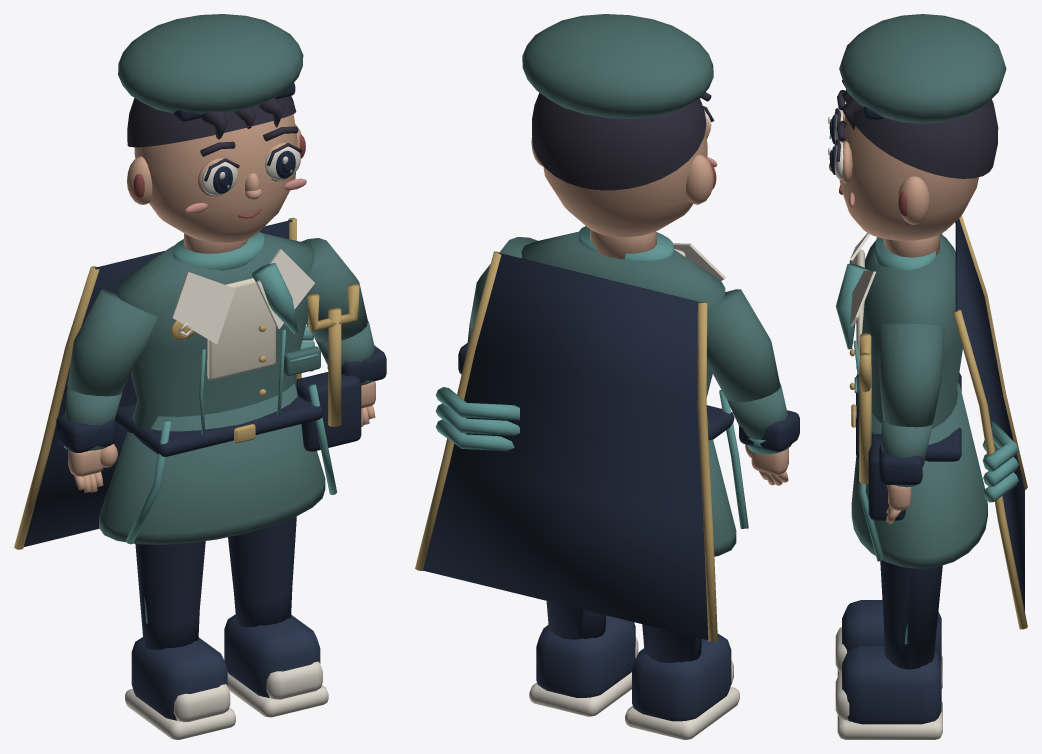
Rendered from npc_hexruins_lieutenant_1.glb.
3 views of the same model, side by side, from view 1: azimuth 30°, elevation 25°; view 2: azimuth 150°, elevation 25°; view 3: azimuth 270°, elevation 25° (orthographic). The views are drawn at different scales.
Parts seen in each view (by area): view 1: figure.064; view 2: figure.064; view 3: figure.064.
Boxes of the visible parts, x1,y1,x2,y2 form: figure.064: (14, 14, 386, 739); figure.064: (415, 14, 799, 739); figure.064: (828, 14, 1027, 739).
Bounding box in the file's own units: 0.8513 × 1.72 × 0.4635.
